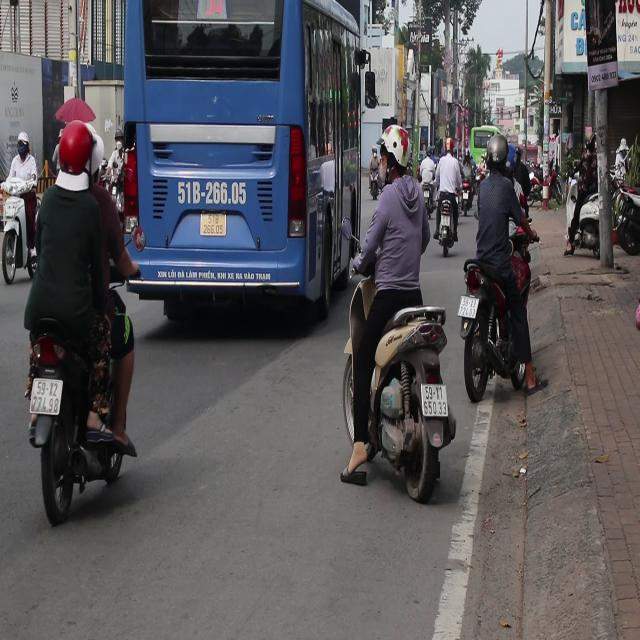bus: (106, 0, 382, 324), (470, 127, 502, 165)
motorbike: (356, 294, 458, 502), (26, 357, 138, 523), (458, 262, 546, 412), (566, 155, 639, 261), (0, 179, 38, 285), (437, 212, 457, 258), (423, 176, 439, 215), (459, 179, 475, 217)
